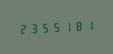eight: (72, 19, 82, 32)
five: (39, 20, 49, 34), (50, 20, 60, 33)
one: (61, 19, 71, 33), (83, 18, 93, 32)
three: (28, 21, 38, 34)
two: (17, 22, 27, 35)
